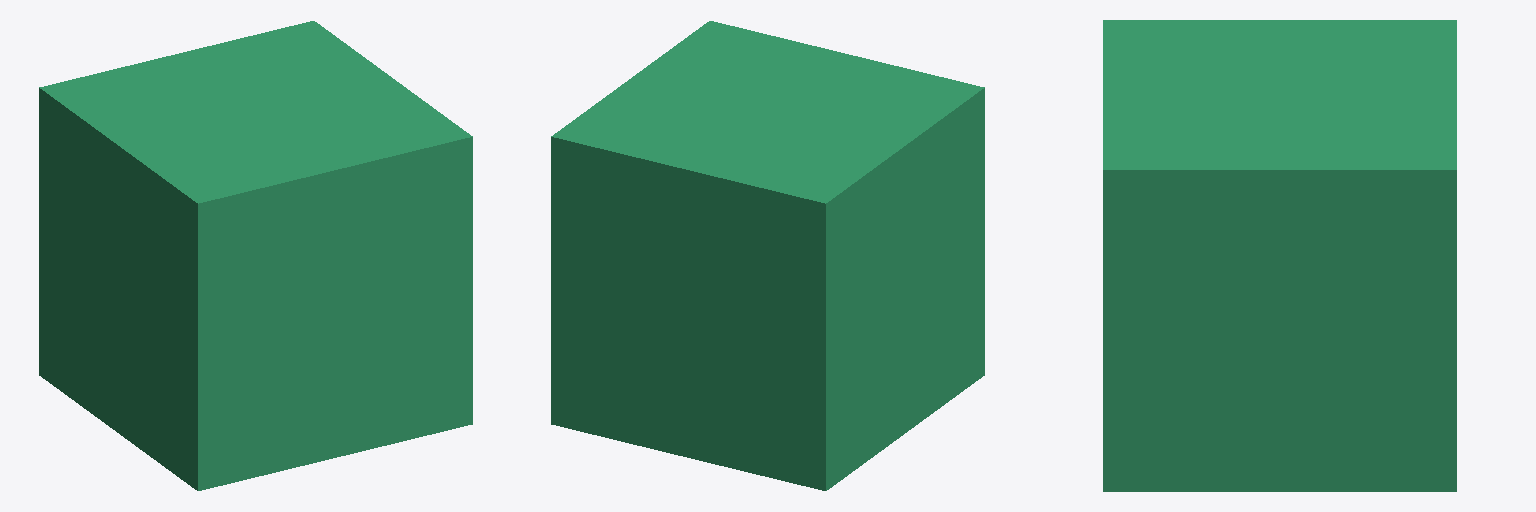
robot.urdf — random_box:
<?xml version='1.0' encoding='UTF-8'?>
<robot name="random_box">
  <link name="box">
    <visual>
      <geometry>
        <box size="0.05 0.05 0.05"/>
      </geometry>
      <material name="color">
        <color rgba="0.2723521904255507 0.6796595330779355 0.4801685820296663 1"/>
      </material>
    </visual>
    <collision>
      <geometry>
        <box size="0.05 0.05 0.05"/>
      </geometry>
    </collision>
  </link>
</robot>

--- Facts derived from the render (not from the file) ---
Views: 3 orthographic renders of the robot side by side, from view 1: azimuth 30°, elevation 25°; view 2: azimuth 150°, elevation 25°; view 3: azimuth 270°, elevation 25°.
Robot: random_box — 1 links, 0 joints (none); root link box; default pose: all joints at 0.
Visible links, largest first — view 1: box; view 2: box; view 3: box.
Link boxes in pixels (<box>): box: <box>39,21,472,490</box>; box: <box>551,21,984,490</box>; box: <box>1103,20,1456,491</box>.
Size in the robot's own frame: 0.05 by 0.05 by 0.05 metres.
Geometry: primitives only (box / cylinder / sphere), no mesh files.